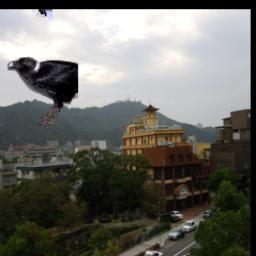Crow: (7, 56, 78, 128), (31, 10, 52, 69)
